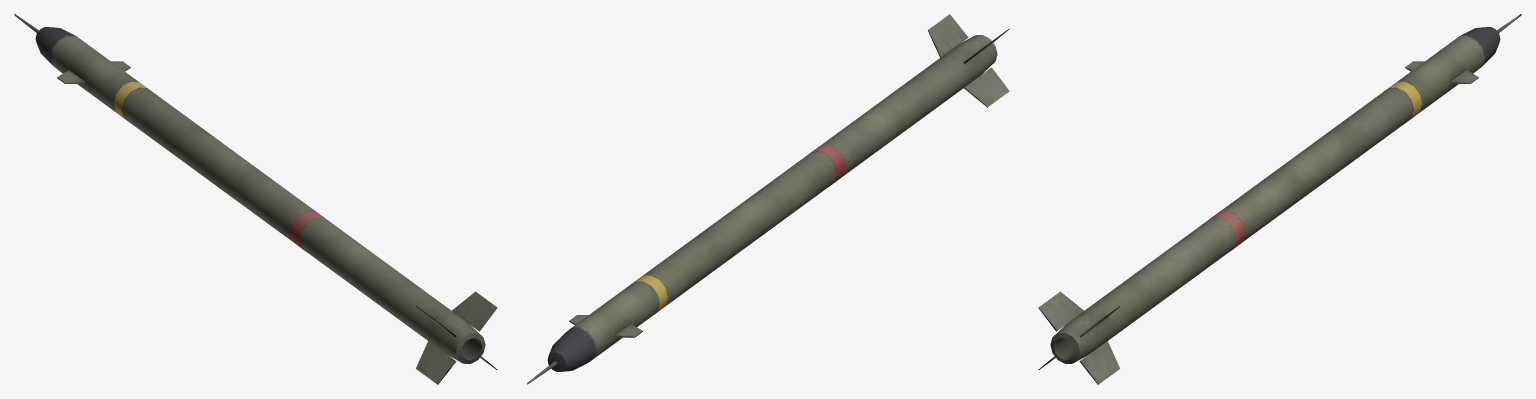
File: sam.glb
3 views of the same model, side by side, from view 1: azimuth 30°, elevation 25°; view 2: azimuth 150°, elevation 25°; view 3: azimuth 330°, elevation 25° (orthographic).
Parts seen in each view (by area): view 1: body; view 2: body; view 3: body.
Part boxes in pixels (<box>): body: <box>14,14,497,384</box>; body: <box>527,14,1009,384</box>; body: <box>1038,14,1521,384</box>.
Bounding box in the file's own units: 0.139 × 0.1276 × 1.68.
1 material, 1 textured.
